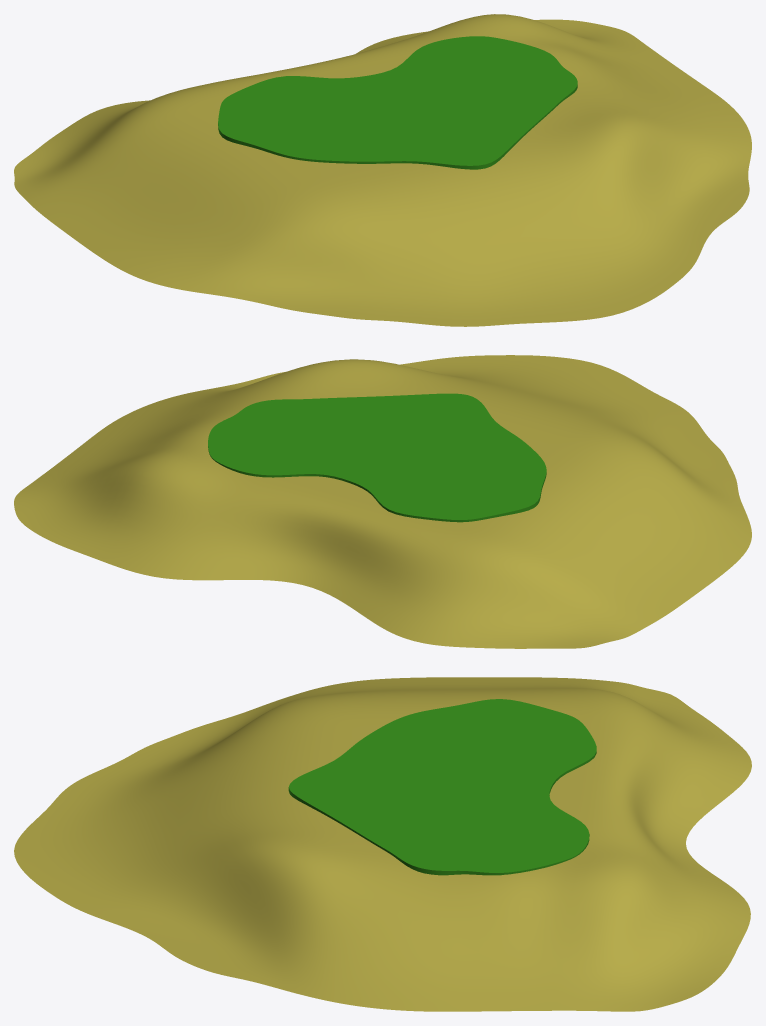
File: ilha coração.fbx
3 renders of one model, top to bottom at view 1: azimuth 30°, elevation 25°; view 2: azimuth 150°, elevation 25°; view 3: azimuth 270°, elevation 25°, orthographic. The views are drawn at different scales.
Parts seen in each view (by area): view 1: Plano, cração; view 2: Plano, cração; view 3: Plano, cração.
Boxes of the visible parts, x1,y1,x2,y2 form: Plano: [14, 14, 751, 326]; cração: [218, 36, 577, 169]; Plano: [14, 355, 751, 648]; cração: [208, 393, 546, 522]; Plano: [14, 677, 751, 1011]; cração: [288, 699, 596, 875].
Size of the model in its own units: 2411 by 228 by 2247.
